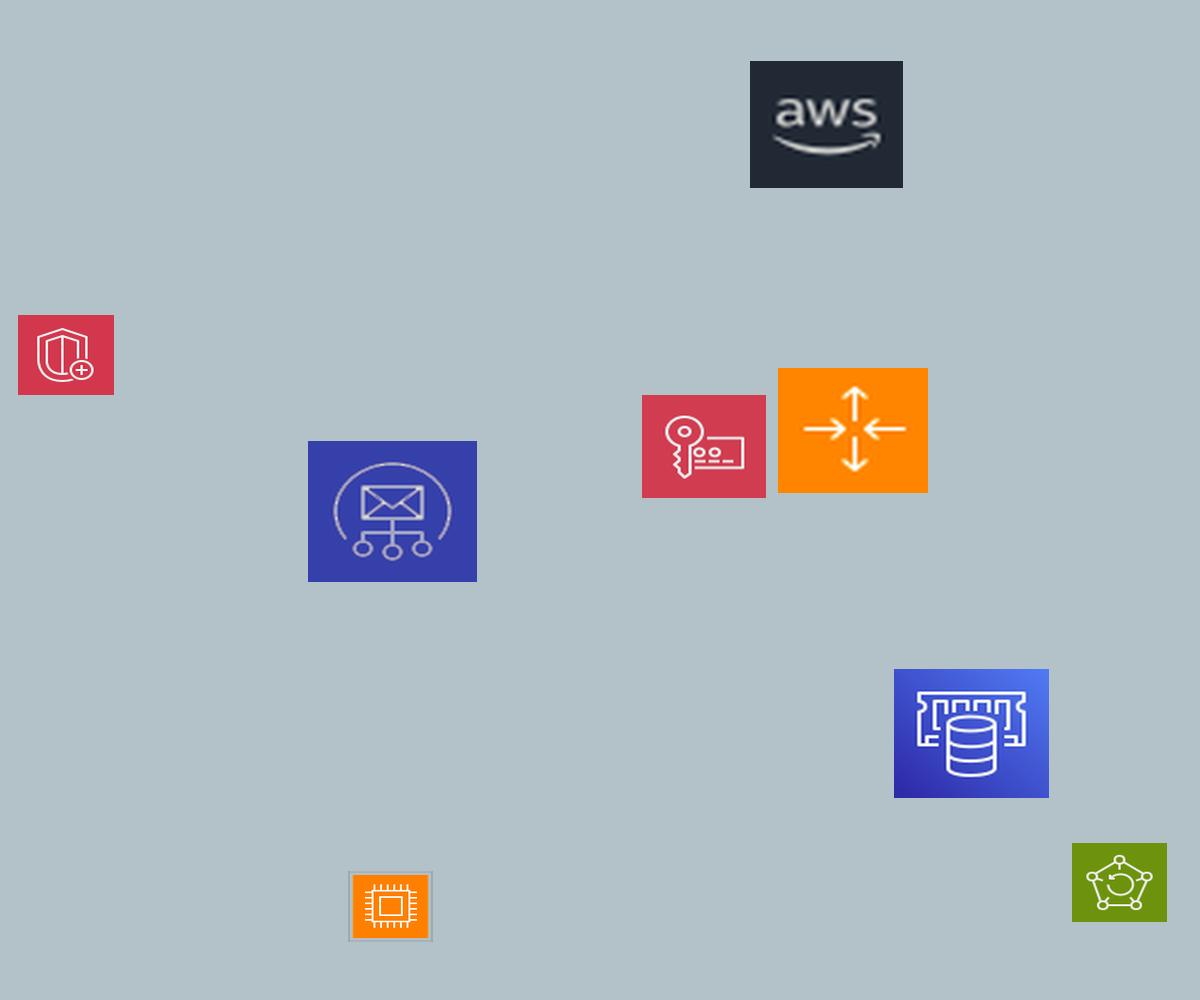AWS-Backup: (1072, 843, 1167, 922)
AWS-Category_Compute: (348, 871, 433, 942)
AWS-Cloud-logo: (750, 61, 903, 188)
AWS-ElastiCache: (894, 669, 1049, 798)
AWS-Key-Management-Service: (642, 395, 766, 498)
AWS-Scaling-group: (778, 368, 928, 493)
AWS-Shield: (18, 315, 114, 395)
AWS-Simple-Email-Service: (308, 441, 477, 582)
